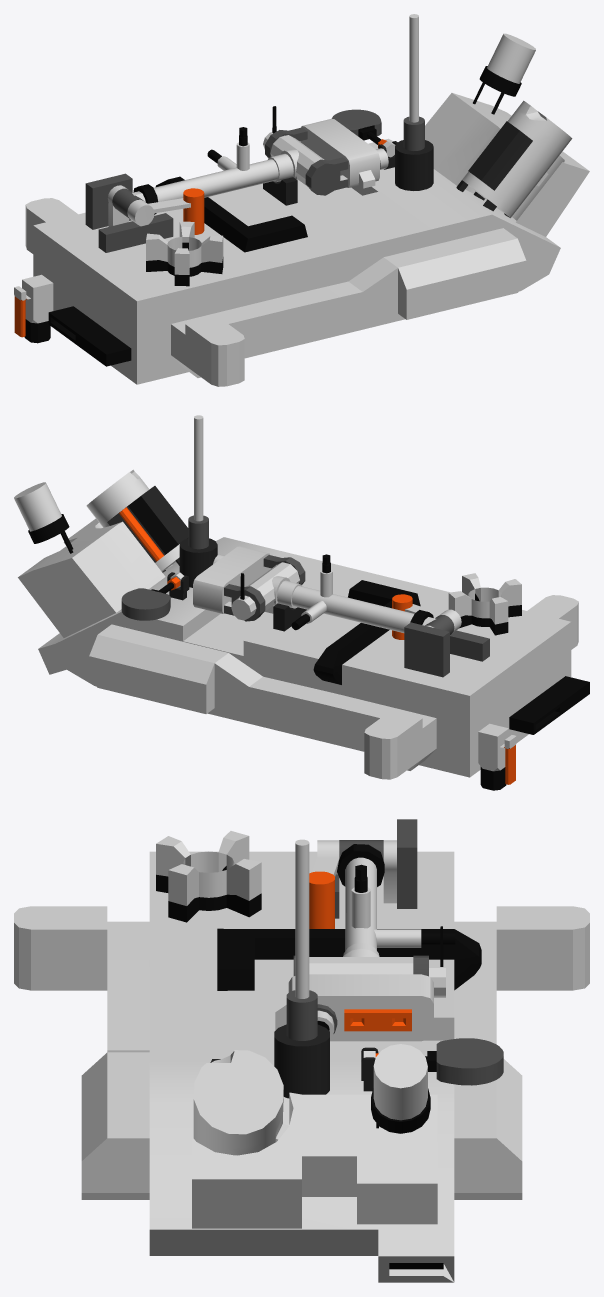
The model's file is Cuerpo.obj.
3 views of the same model, one above another, from view 1: azimuth 30°, elevation 25°; view 2: azimuth 150°, elevation 25°; view 3: azimuth 270°, elevation 25° (orthographic). The views are drawn at different scales.
Visible parts, largest first — view 1: Cuerpo; view 2: Cuerpo; view 3: Cuerpo.
Boxes of the visible parts, x1,y1,x2,y2 form: Cuerpo: (14,14,589,386); Cuerpo: (14,415,589,790); Cuerpo: (14,819,589,1282).
Size of the model in its own units: 10.27 by 5.1 by 6.8.
